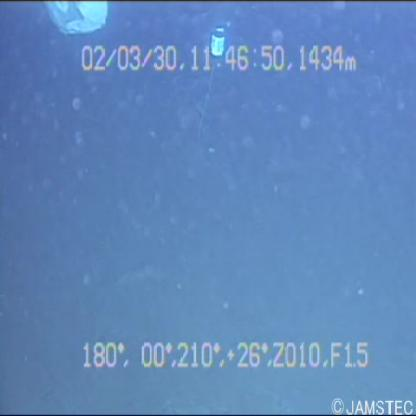Rác: (42, 1, 110, 45)
